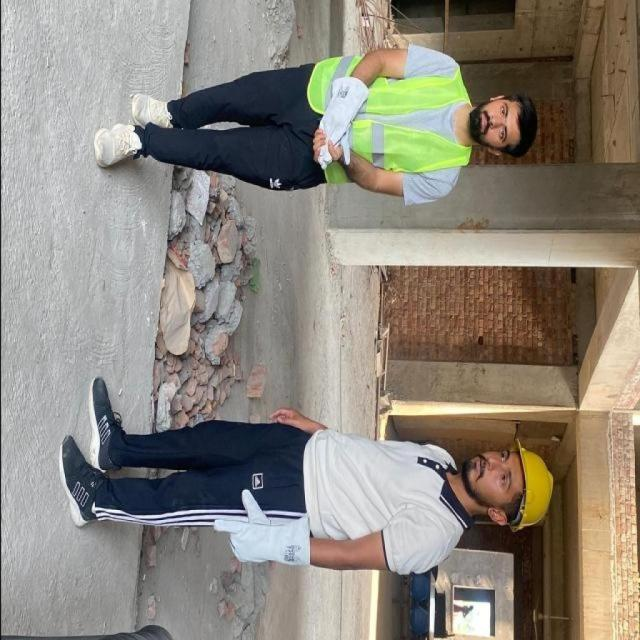Gloves-Detection: (216, 485, 314, 573), (316, 70, 365, 180)
